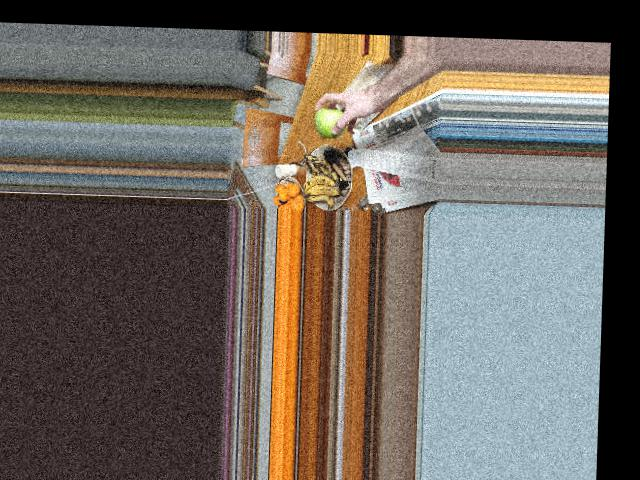apple: (312, 107, 350, 137)
